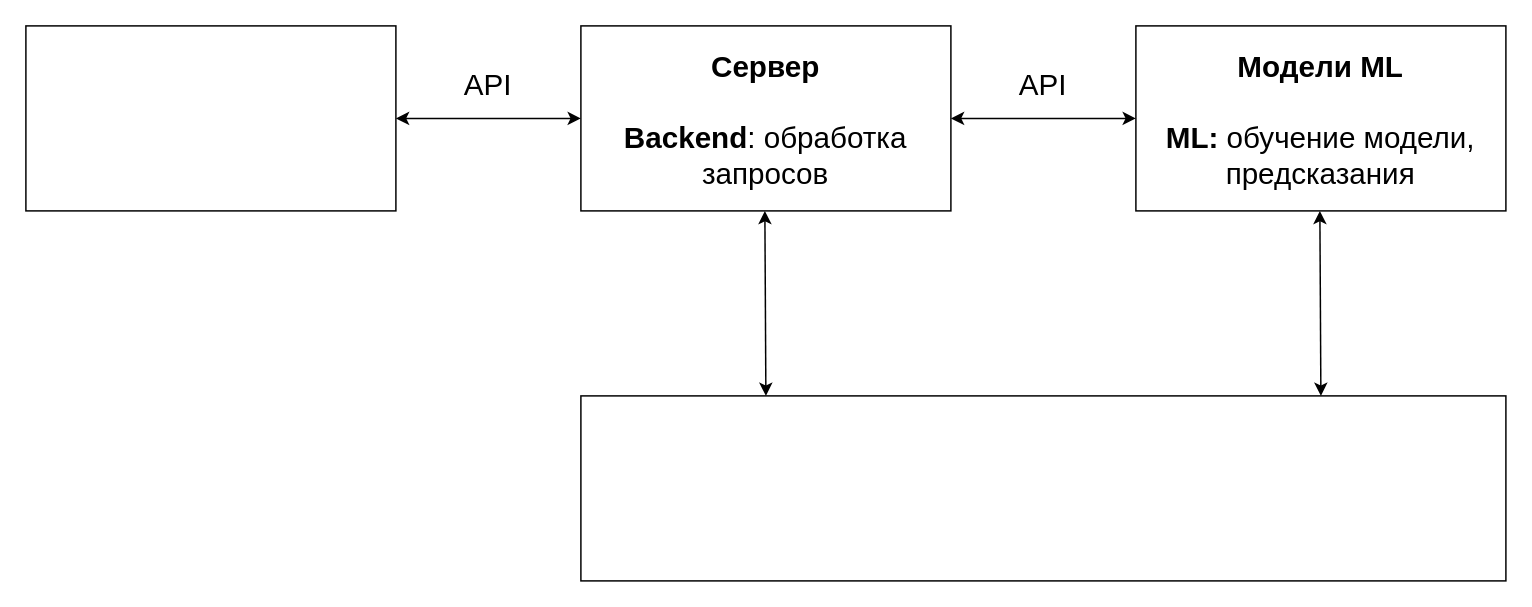
This 1532x607 diagram has some shape labels left out. The shapes that lost their labels are listed below. From the top down, each one's centre as x and y in pixels, then its label:
At point 210,117: "Клиентская часть Frontend : UI".
At point 1042,487: "База данных БД: хранениие обученных моделей и данных о клиентах".
